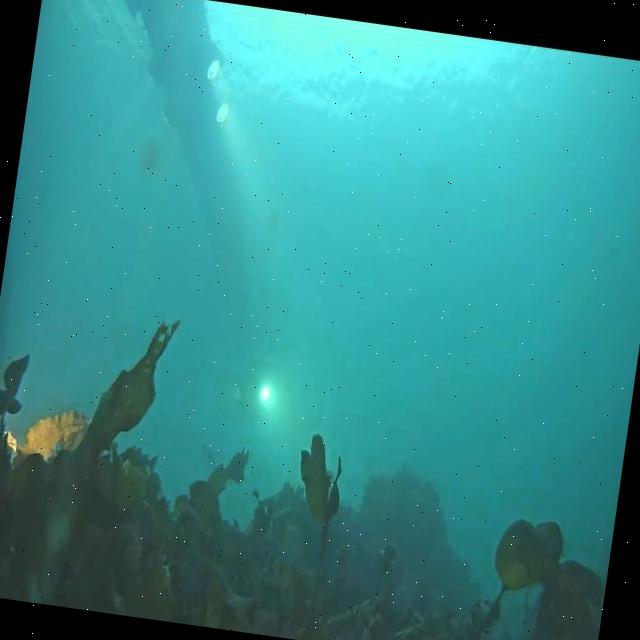fish: (118, 442, 158, 474), (196, 441, 220, 470)
